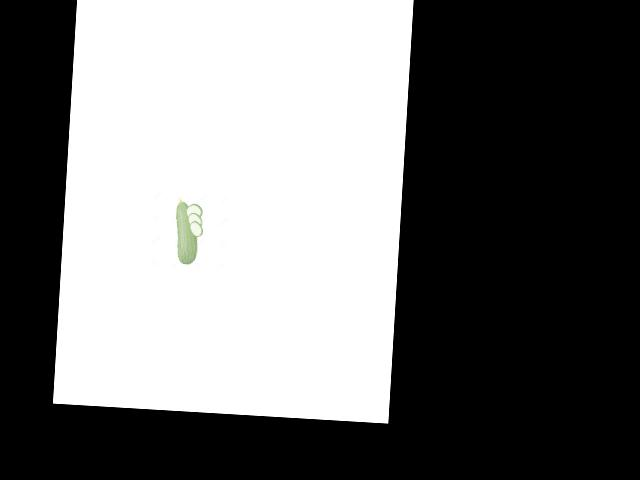cucumber: (173, 198, 200, 265)
